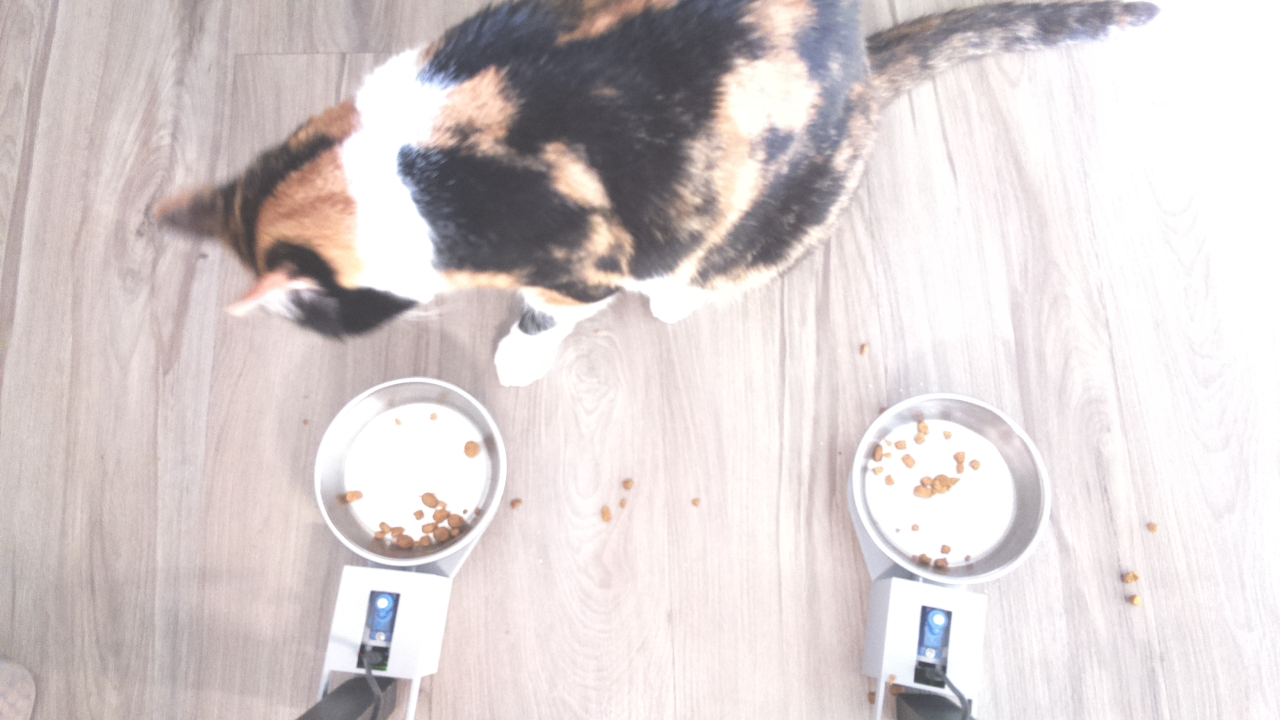bella: (154, 76, 477, 343)
open_bowl: (844, 389, 1055, 590), (309, 375, 509, 566)
